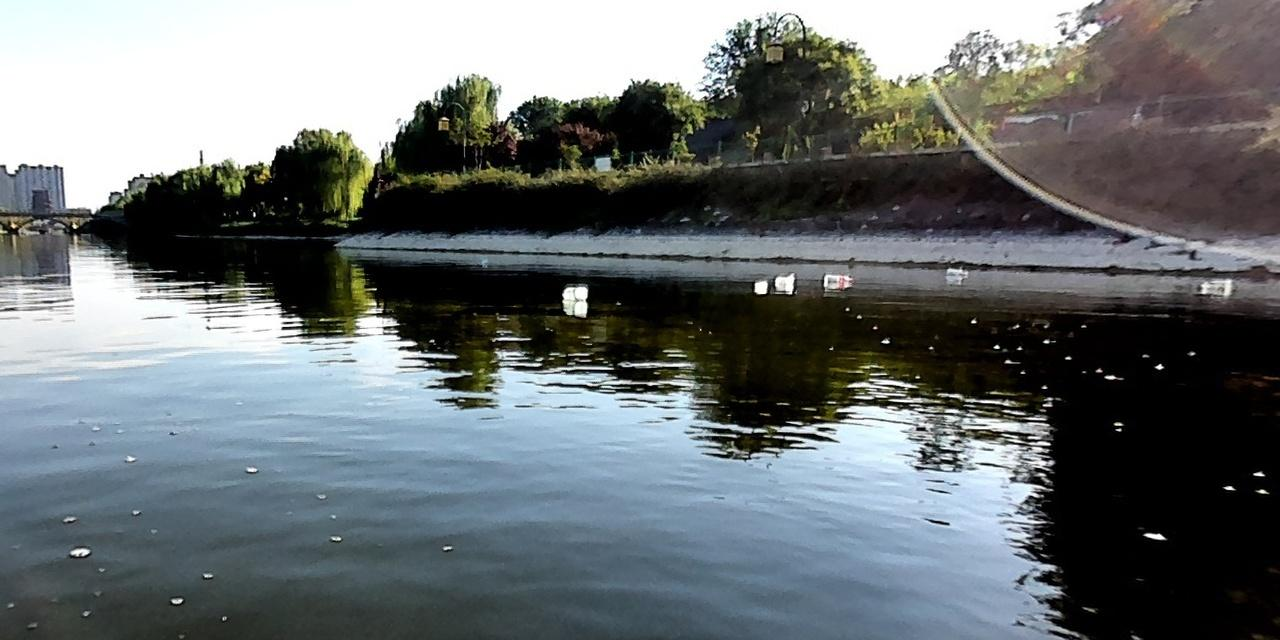bottle: (557, 279, 592, 302), (820, 272, 855, 286), (943, 263, 970, 277), (772, 272, 796, 287), (749, 278, 770, 288)
